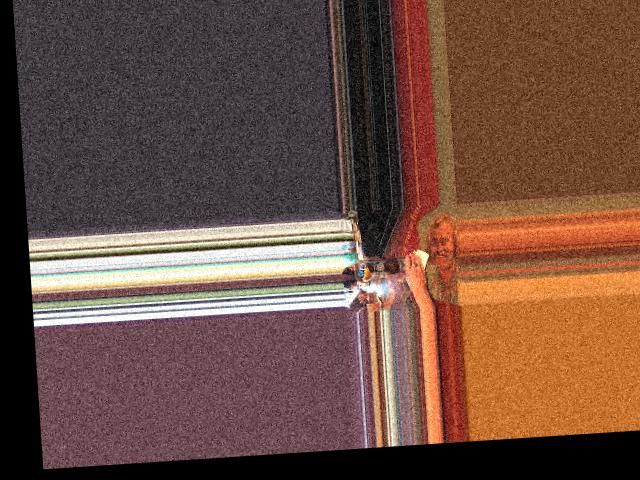beer: (365, 255, 421, 274)
